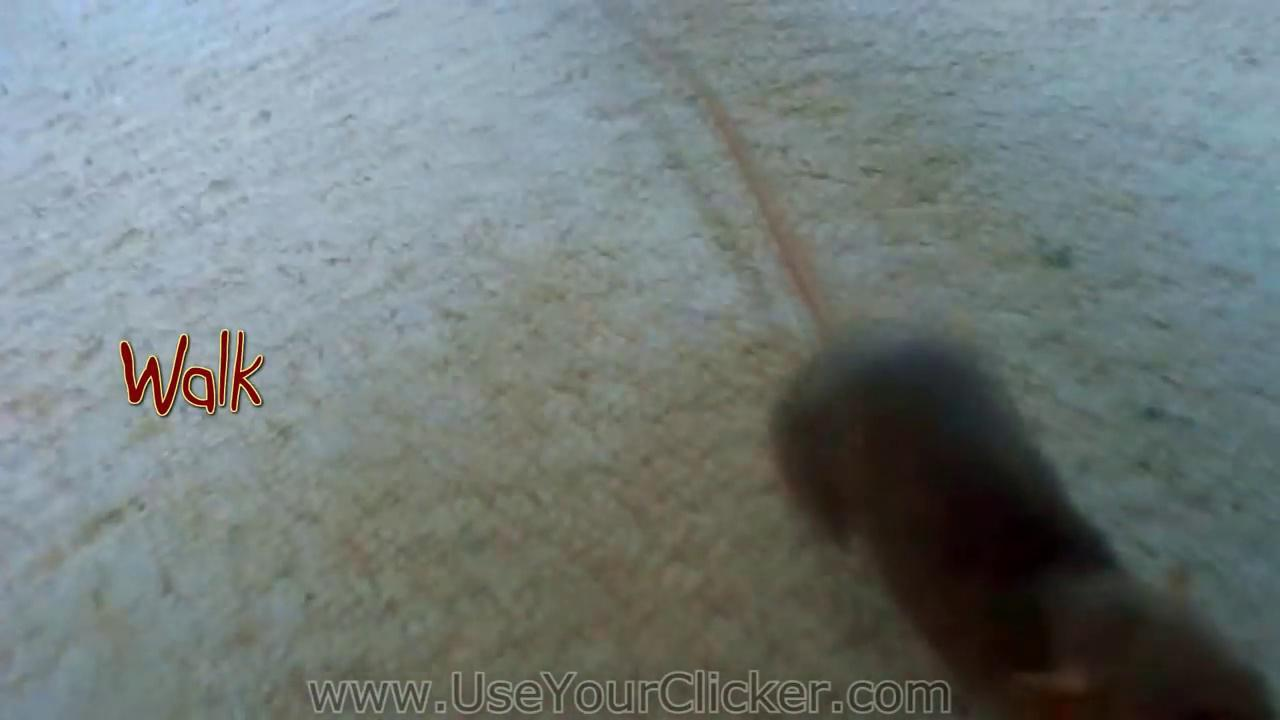rat: (590, 0, 1280, 720)
